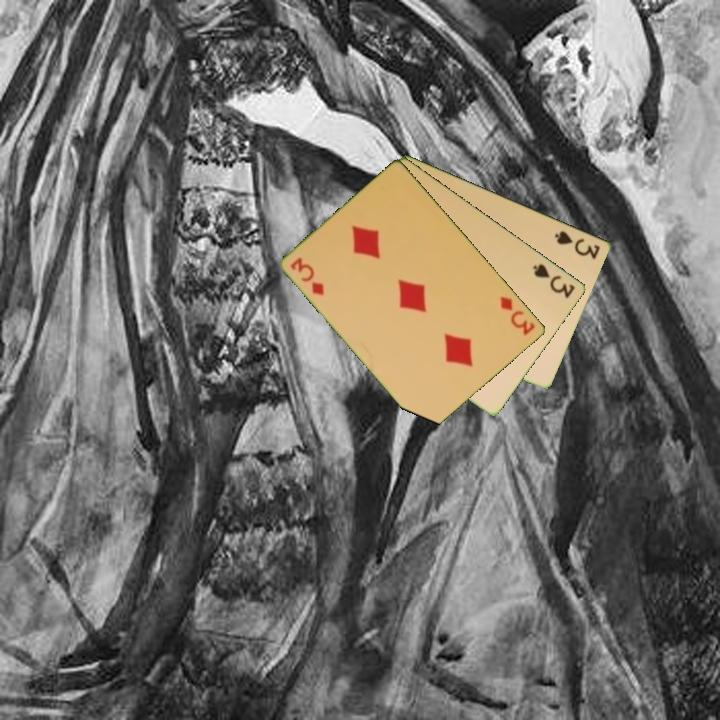3d: (497, 292, 538, 338), (287, 254, 328, 298)
3s: (530, 260, 578, 301), (551, 227, 603, 262)
